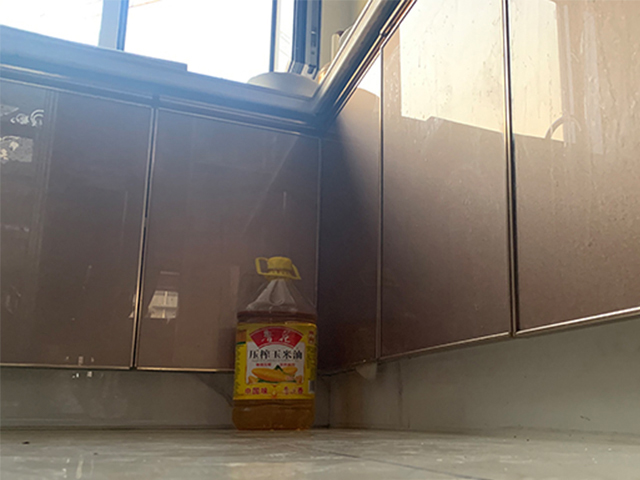cabinet: (317, 1, 640, 441), (1, 26, 322, 437)
